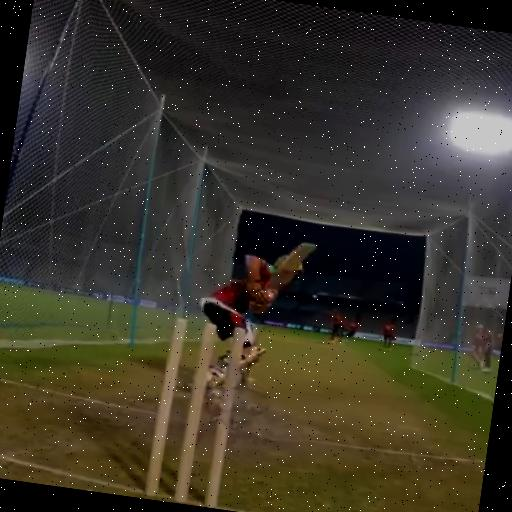Cricket bat: (269, 243, 314, 290)
